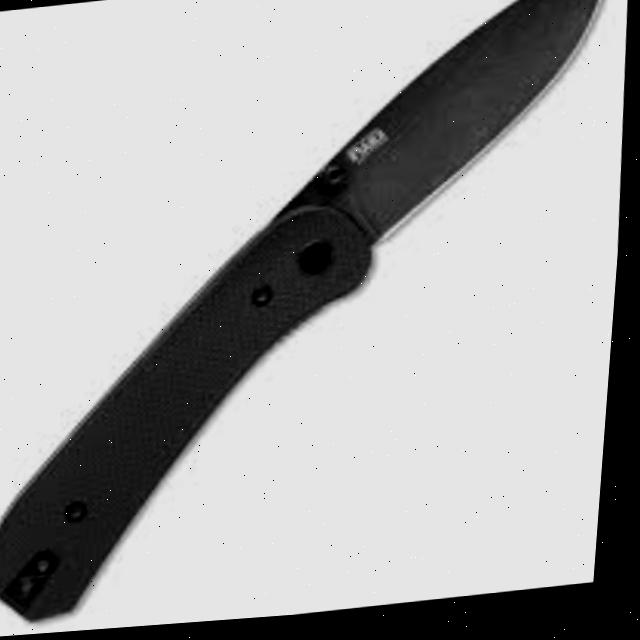knife: (0, 0, 638, 630)
